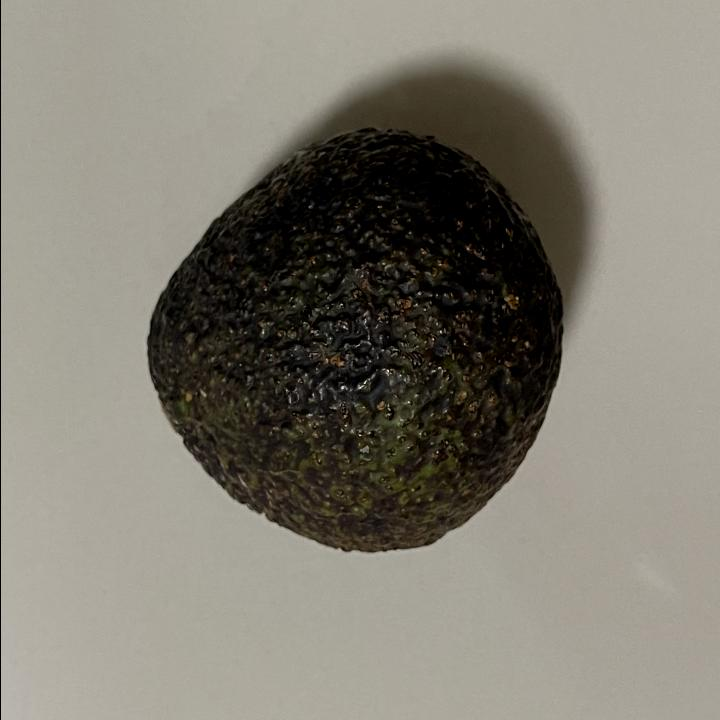Level2: (143, 121, 568, 562)
